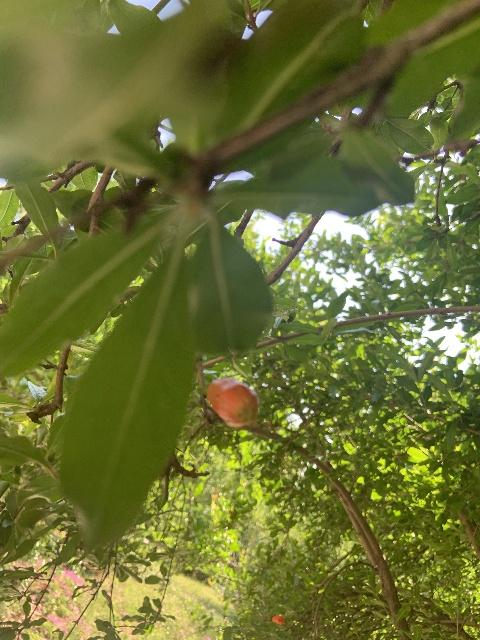bud: (207, 380, 258, 427)
flower: (272, 614, 285, 624)
